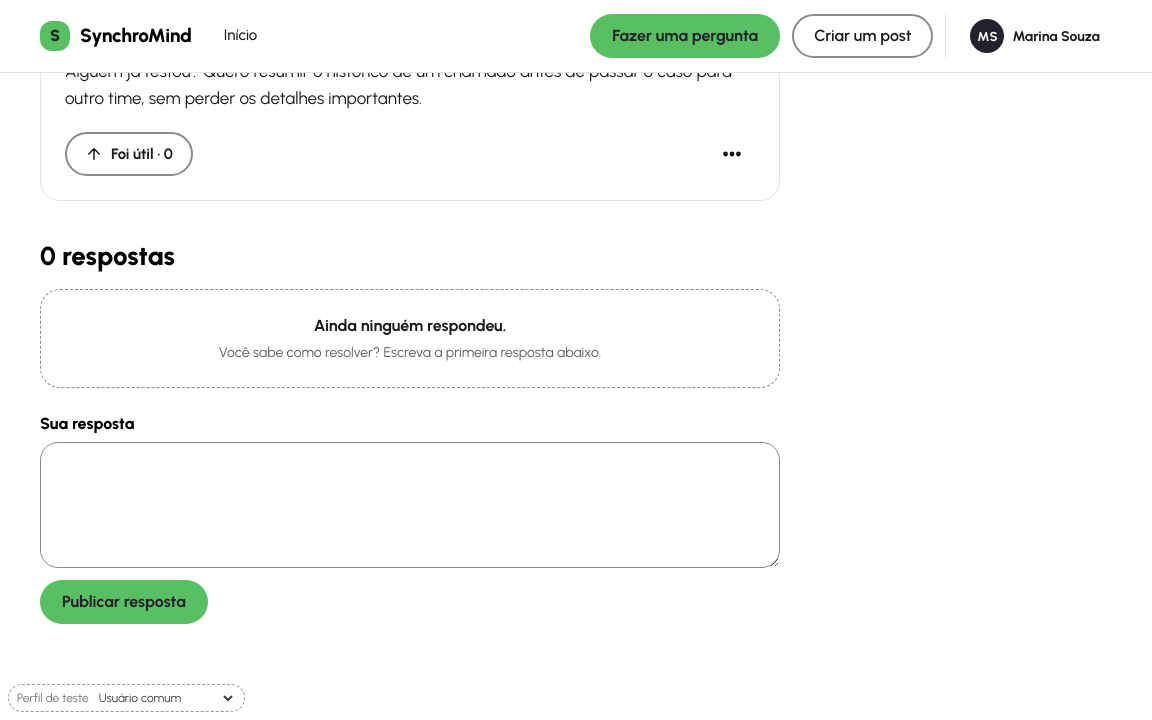
it: B5 detalhe de pergunta (HU-08, HU-13, HU-14) › não publica resposta vazia e avisa (HU-08, critério 2)
(page scrolled)
Check: the text "Ainda ninguém respondeu." is shown, box [314, 316, 506, 334]
Click the button "Publicar resposta" at {"x": 124, "y": 602}, box [40, 580, 208, 624]
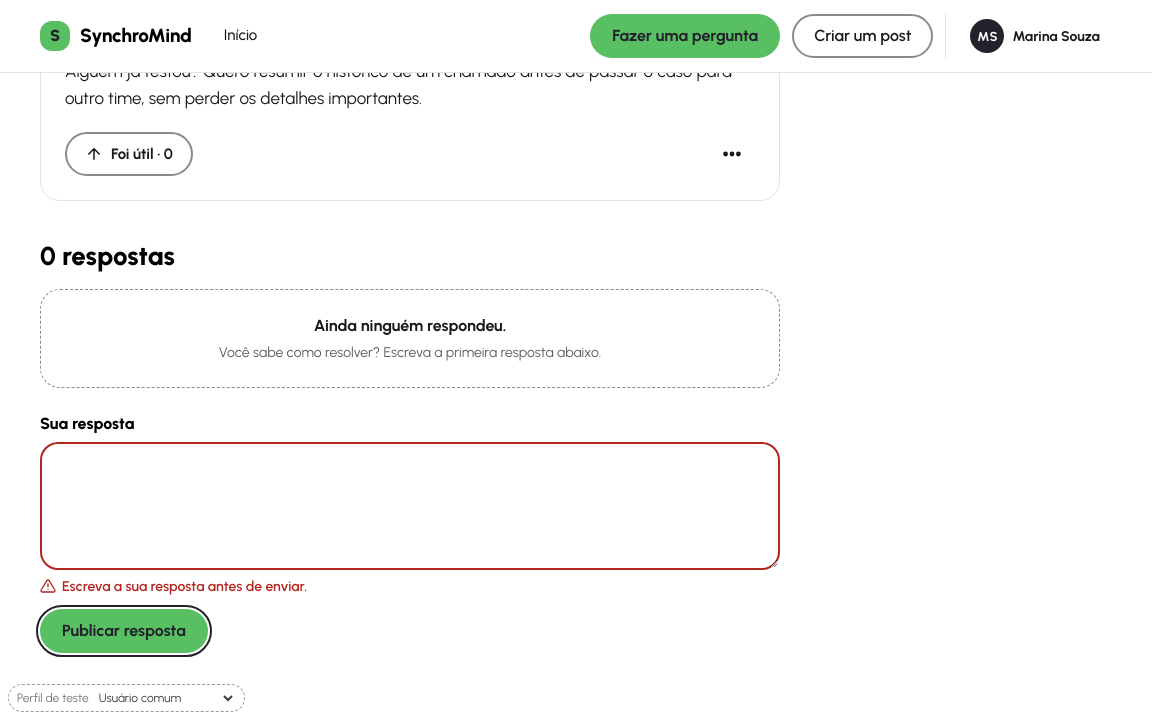
Check: the text "Escreva a sua resposta antes de enviar." is shown, box [62, 576, 307, 596]
